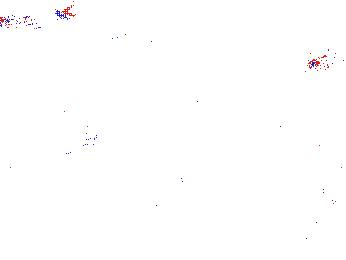X-ray fish: (33, 111, 103, 157), (304, 5, 333, 40)
glassfish: (153, 136, 188, 203), (117, 197, 173, 230)
red belly glassfish: (305, 55, 346, 73)
redtail glassfish: (1, 2, 75, 30), (102, 28, 163, 55), (181, 3, 248, 23)
